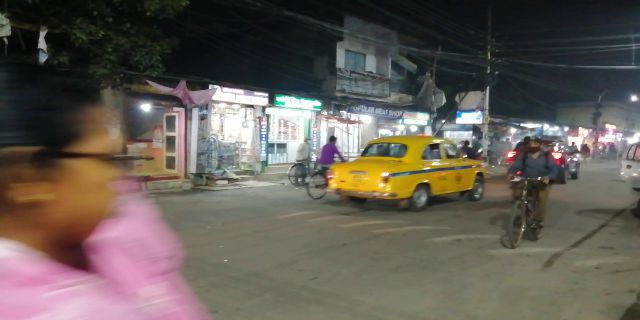Car: (326, 134, 488, 210)
Cycle: (504, 138, 550, 248)
